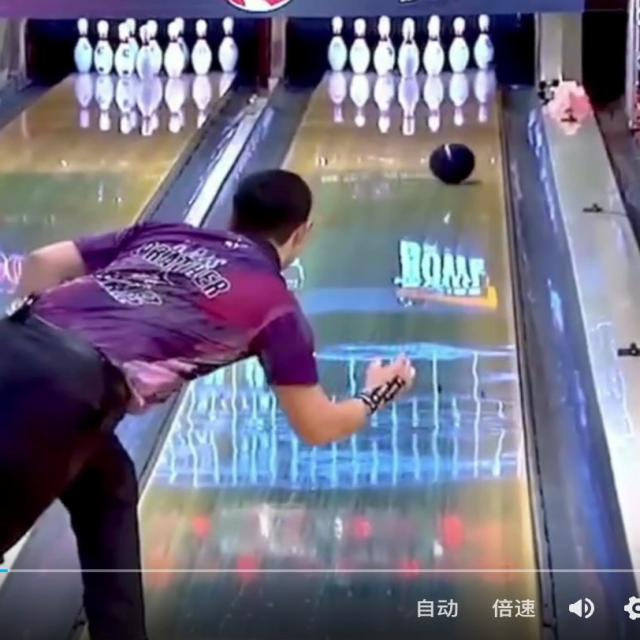alley: (141, 71, 538, 639)
balls: (429, 143, 474, 184)
bottle: (327, 16, 420, 77), (422, 15, 444, 75), (448, 17, 470, 73), (472, 15, 493, 71)
